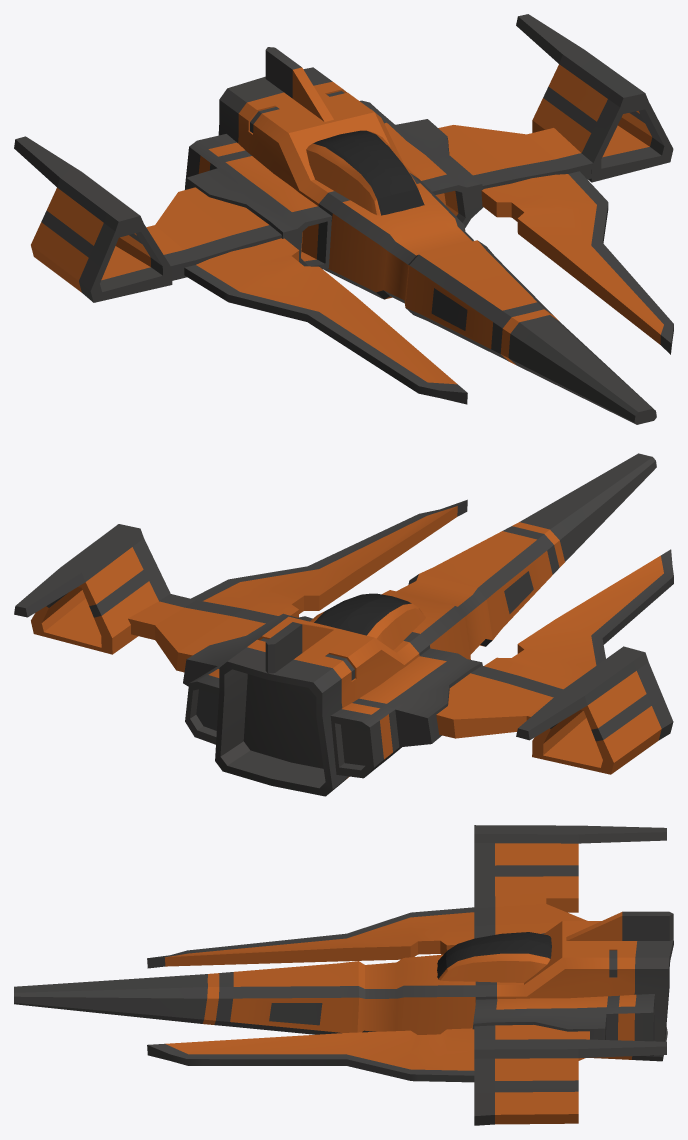
Rendered from constructor_tug.glb.
The picture shows the model from 3 angles, top to bottom: view 1: azimuth 30°, elevation 25°; view 2: azimuth 150°, elevation 25°; view 3: azimuth 270°, elevation 25°; orthographic projection. The views are drawn at different scales.
Visible parts, largest first — view 1: Spaceship_RaeTheRedPanda; view 2: Spaceship_RaeTheRedPanda; view 3: Spaceship_RaeTheRedPanda.
Boxes of the visible parts, x1,y1,x2,y2 form: Spaceship_RaeTheRedPanda: (14, 14, 673, 424); Spaceship_RaeTheRedPanda: (14, 453, 673, 796); Spaceship_RaeTheRedPanda: (14, 825, 673, 1125).
Size of the model in its own units: 9.95 by 2.35 by 11.17.
1 material, 1 textured.
